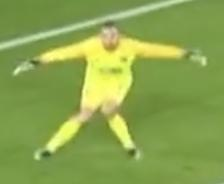goalkeeper: (7, 8, 224, 184)
